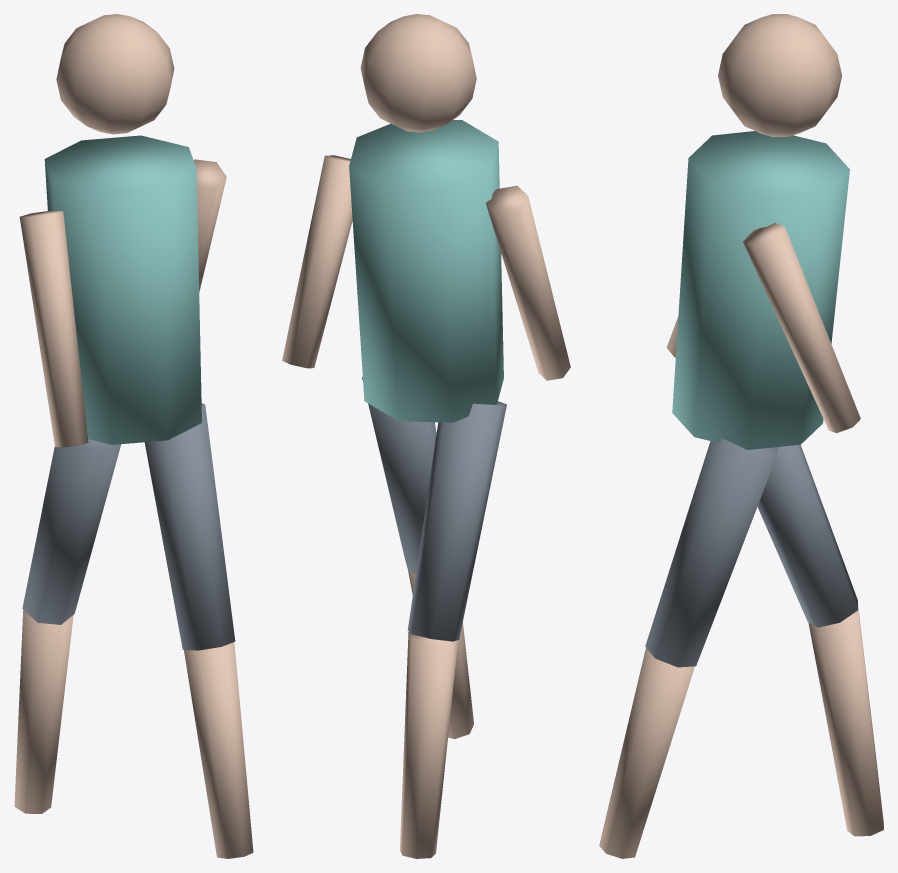
The model's file is pedestrian.glb.
The picture shows the model from 3 angles, left to right: view 1: azimuth 30°, elevation 25°; view 2: azimuth 150°, elevation 25°; view 3: azimuth 270°, elevation 25°; orthographic projection. The views are drawn at different scales.
Parts seen in each view (by area): view 1: pedestrian; view 2: pedestrian; view 3: pedestrian.
Part boxes in pixels (x1=…): pedestrian: x1=14, y1=14, x2=253, y2=858; pedestrian: x1=282, y1=14, x2=570, y2=858; pedestrian: x1=599, y1=14, x2=883, y2=858.
Size of the model in its own units: 0.4554 by 1.7 by 0.5271.
